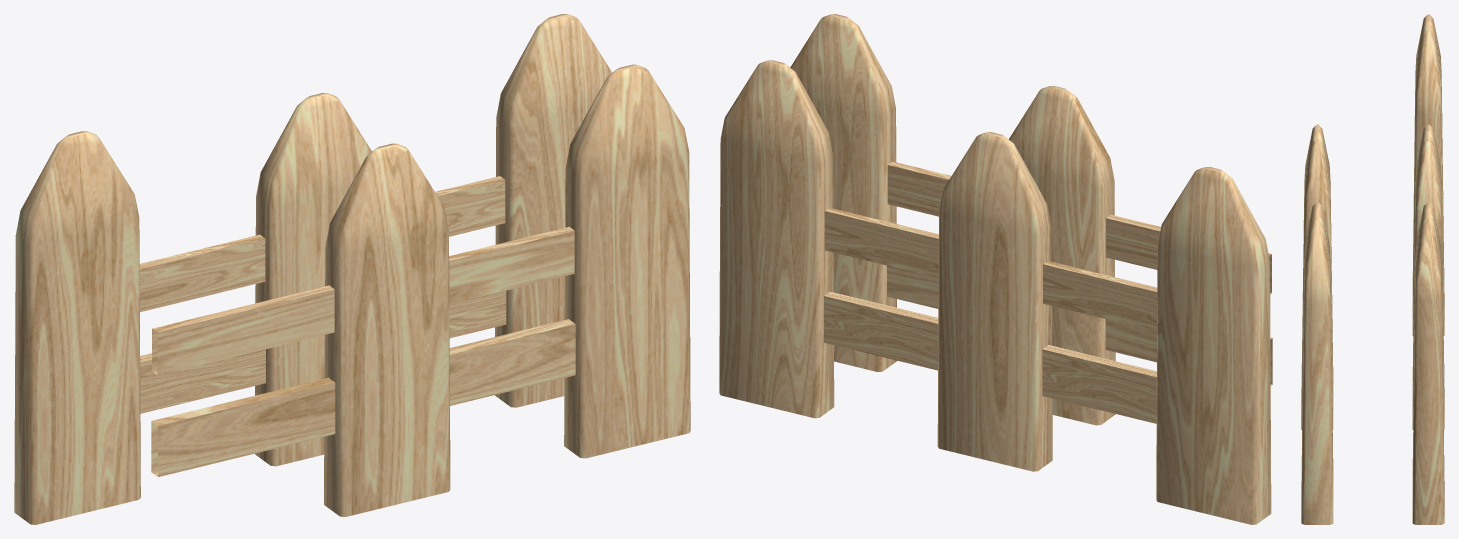
File: 3d-platformer-set2_fences.fbx
The picture shows the model from 3 angles, left to right: view 1: azimuth 30°, elevation 25°; view 2: azimuth 150°, elevation 25°; view 3: azimuth 270°, elevation 25°; orthographic projection. The views are drawn at different scales.
Visible parts, largest first — view 1: fence_05_part_02, fence_05_part_01; view 2: fence_05_part_01, fence_05_part_02; view 3: fence_05_part_01, fence_05_part_02.
Part boxes in pixels (box(x1,y1,x2,y2)): fence_05_part_02: box(151, 64, 690, 516); fence_05_part_01: box(14, 14, 612, 524); fence_05_part_01: box(719, 60, 1271, 524); fence_05_part_02: box(790, 14, 1272, 425); fence_05_part_01: box(1412, 14, 1444, 524); fence_05_part_02: box(1301, 124, 1333, 524).
Bounding box in the file's own units: 984 × 591 × 258.
